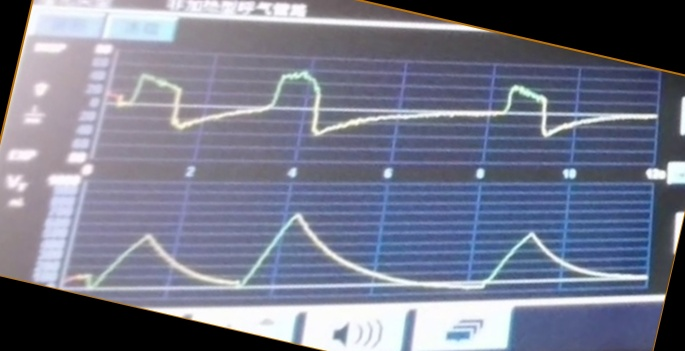Accumulation Flow: (111, 65, 640, 160)
Volume: (79, 205, 638, 294)
